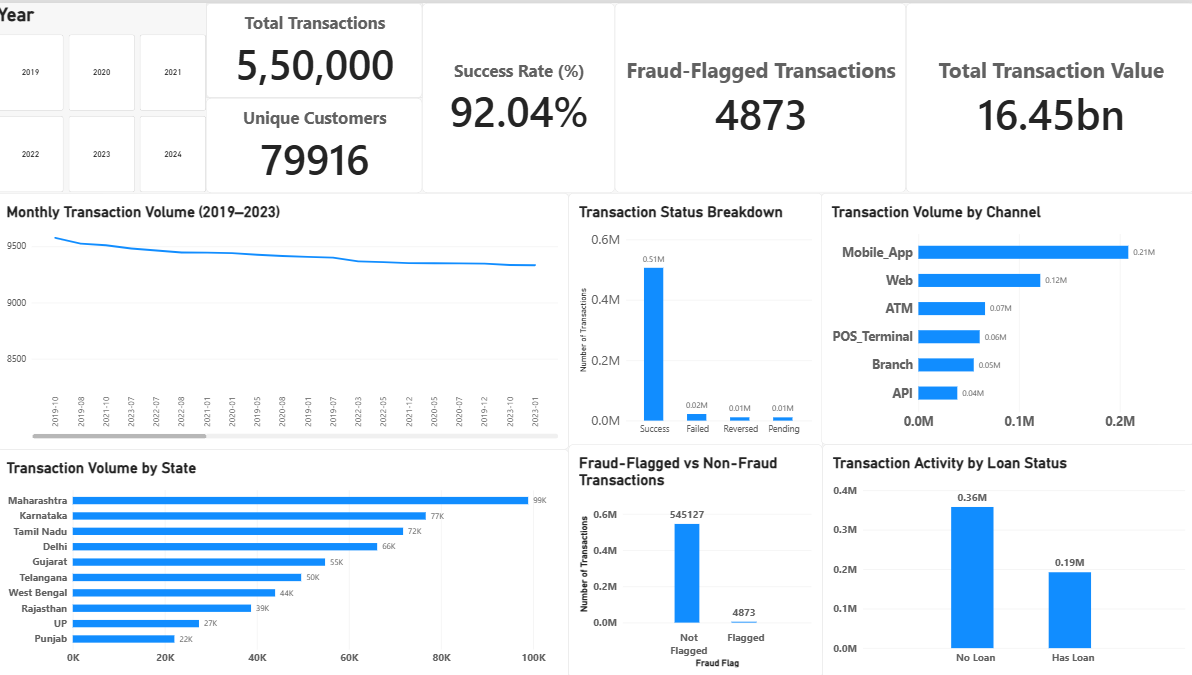

What the dashboard file says about the page in this screenshot:
{"tool":"powerbi","page":{"name":"Dashboard","canvas":[1920,1080],"ordinal":0},"visuals":[{"type":"cardVisual","fields":{"Data":["bankscope transactions.Total Transactions"]},"box":[336,0,346,152],"z":0},{"type":"cardVisual","fields":{"Data":["bankscope transactions.Unique Customers"]},"box":[336,152,346,152],"z":1000},{"type":"cardVisual","fields":{"Data":["bankscope transactions.Total Transaction Value"]},"box":[1456.7,0,463.3,303.3],"z":2000},{"type":"cardVisual","fields":{"Data":["bankscope transactions.Success Rate (%)"]},"box":[682,0,308,304],"z":3000},{"type":"cardVisual","fields":{"Data":["bankscope transactions.Fraud-Flagged Transactions"]},"box":[990,0,466.7,303.3],"z":4000},{"type":"lineChart","title":"Monthly Transaction Volume (2019–2023)","fields":{"Category":["DateTable.Year Month"],"Y":["bankscope transactions.Total Transactions"]},"box":[0,303.3,916.7,410],"z":5000},{"type":"clusteredColumnChart","title":"Transaction Status Breakdown","fields":{"Category":["bankscope transactions.transaction_status"],"Y":["bankscope transactions.Total Transactions"]},"box":[916.7,303.3,406.7,410],"z":6000},{"type":"clusteredBarChart","title":"Transaction Volume by Channel","fields":{"Category":["bankscope transactions.channel"],"Y":["bankscope transactions.Total Transactions"]},"box":[1320,304,600,402],"z":7000},{"type":"clusteredBarChart","title":"Transaction Volume by State","fields":{"Category":["bankscope transactions.state"],"Y":["bankscope transactions.Total Transactions"]},"box":[0,713.3,916.7,366.7],"z":7001},{"type":"clusteredColumnChart","title":"Fraud-Flagged vs Non-Fraud Transactions","fields":{"Category":["bankscope transactions.Fraud Status"],"Y":["bankscope transactions.Total Transactions"]},"box":[916,706,406,374],"z":7002},{"type":"clusteredColumnChart","title":"Transaction Activity by Loan Status","fields":{"Category":["bankscope transactions.Loan Status"],"Y":["bankscope transactions.Total Transactions"]},"box":[1322,706,598,374],"z":7003},{"type":"advancedSlicerVisual","fields":{"Values":["DateTable.Date.Variation.Date Hierarchy.Year"]},"box":[2,0,334,304],"z":7004}]}

Visuals, with their boxes in screenshot pixels (x1, y1, x2, y2), scaled from the page's 1920x1080 canvas onto the 1192x675 screenshot:
cardVisual - bankscope transactions.Total Transactions: crop(209, 0, 423, 95)
cardVisual - bankscope transactions.Unique Customers: crop(209, 95, 423, 190)
cardVisual - bankscope transactions.Total Transaction Value: crop(904, 0, 1191, 190)
cardVisual - bankscope transactions.Success Rate (%): crop(423, 0, 615, 190)
cardVisual - bankscope transactions.Fraud-Flagged Transactions: crop(615, 0, 904, 190)
"Monthly Transaction Volume (2019–2023)" lineChart: crop(0, 190, 569, 446)
"Transaction Status Breakdown" clusteredColumnChart: crop(569, 190, 822, 446)
"Transaction Volume by Channel" clusteredBarChart: crop(820, 190, 1191, 441)
"Transaction Volume by State" clusteredBarChart: crop(0, 446, 569, 674)
"Fraud-Flagged vs Non-Fraud Transactions" clusteredColumnChart: crop(569, 441, 821, 674)
"Transaction Activity by Loan Status" clusteredColumnChart: crop(821, 441, 1191, 674)
advancedSlicerVisual - DateTable.Date.Variation.Date Hierarchy.Year: crop(1, 0, 209, 190)
